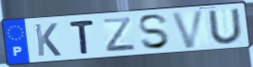K: (32, 22, 63, 58)
S: (137, 13, 172, 51)
T: (67, 19, 96, 56)
U: (206, 7, 245, 45)
V: (169, 8, 207, 50)
Z: (101, 16, 138, 53)
